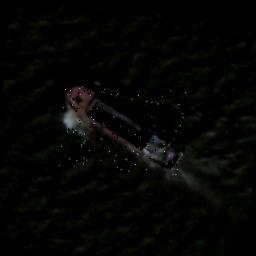boat: (56, 82, 187, 176)
